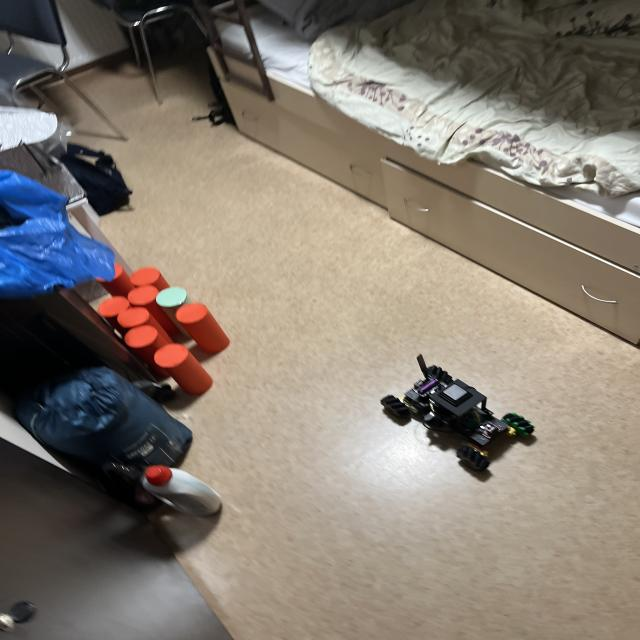robot: (380, 355, 534, 470)
